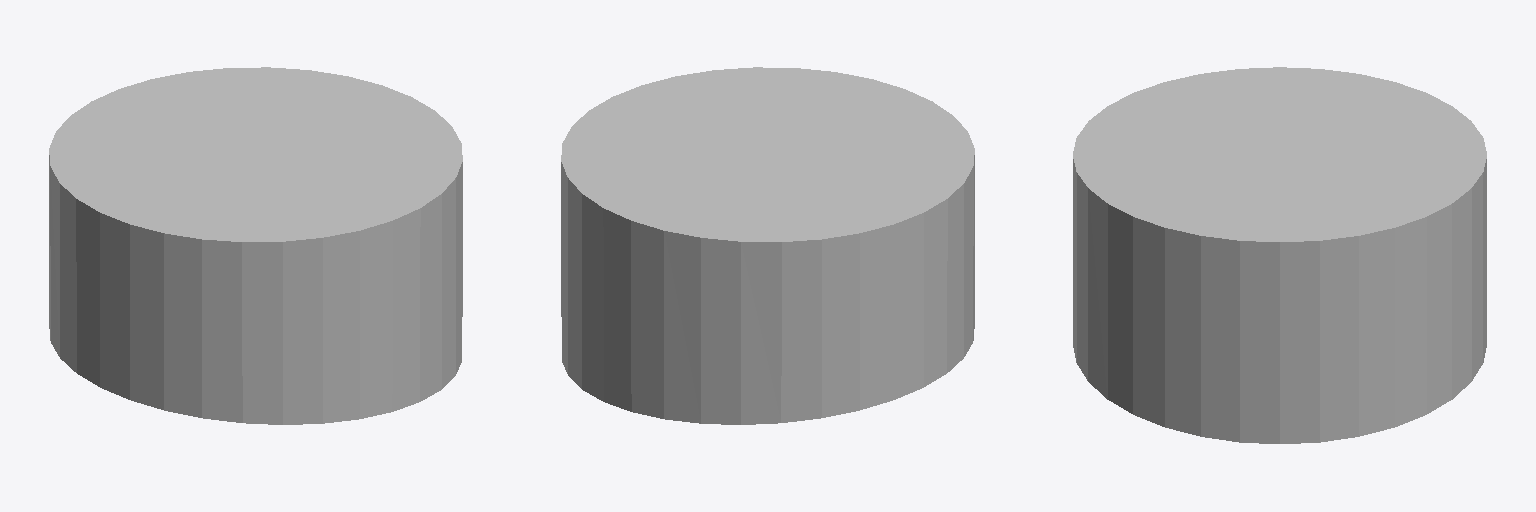
The model's file is light.obj.
The picture shows the model from 3 angles: view 1: azimuth 30°, elevation 25°; view 2: azimuth 150°, elevation 25°; view 3: azimuth 270°, elevation 25°; orthographic projection.
Visible parts, largest first — view 1: Cylinder; view 2: Cylinder; view 3: Cylinder.
Boxes of the visible parts, x1,y1,x2,y2 form: Cylinder: [49, 67, 462, 424]; Cylinder: [561, 67, 974, 424]; Cylinder: [1073, 67, 1486, 443].
Bounding box in the file's own units: 0.1787 × 0.0962 × 0.1787.